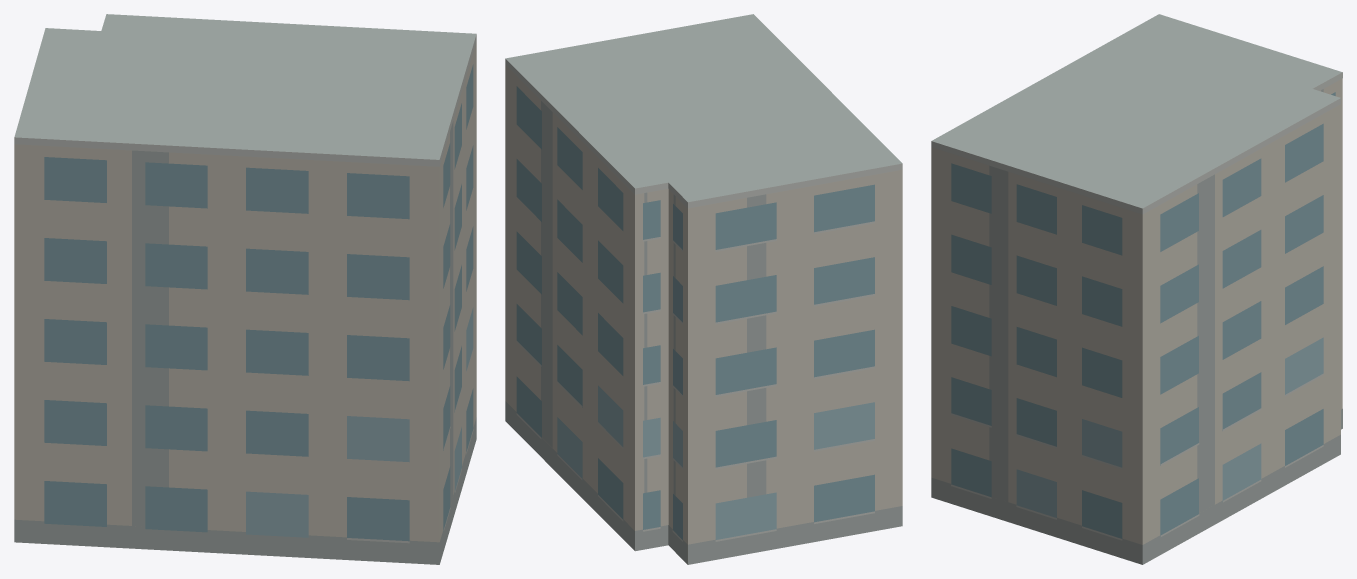
Rendered from survey-upis-33028915.glb.
3 renders of one model, left to right at view 1: azimuth 30°, elevation 25°; view 2: azimuth 150°, elevation 25°; view 3: azimuth 270°, elevation 25°, orthographic. The views are drawn at different scales.
Parts seen in each view (by area): view 1: survey-upis-33028915.tmp; view 2: survey-upis-33028915.tmp; view 3: survey-upis-33028915.tmp.
Part boxes in pixels (x1,y1,x2,y2): survey-upis-33028915.tmp: [14, 14, 476, 564]; survey-upis-33028915.tmp: [505, 14, 902, 564]; survey-upis-33028915.tmp: [931, 14, 1342, 564].
Size of the model in its own units: 16.87 by 14.4 by 15.08.
